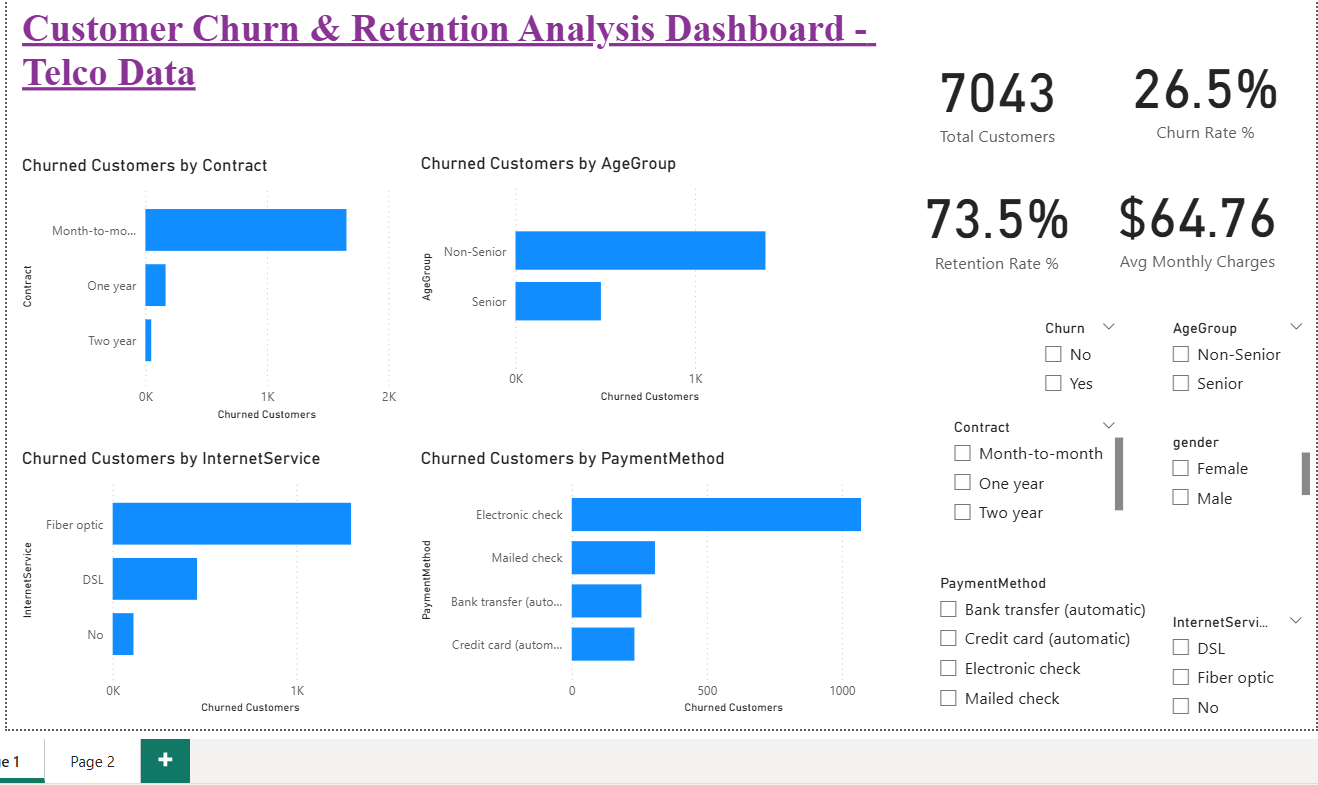

The page's visual inventory and layout, read from the dashboard file:
{"tool":"powerbi","page":{"name":"Page 1","canvas":[1280,720],"ordinal":0},"visuals":[{"type":"card","fields":{"Values":["Telco.Total Customers"]},"box":[896.3,45.2,145.5,112.5],"z":0},{"type":"card","fields":{"Values":["Telco.Churn Rate %"]},"box":[1083.4,45.2,178.5,103.9],"z":1000},{"type":"card","fields":{"Values":["Telco.Retention Rate %"]},"box":[887.8,159,161.4,132.1],"z":2000},{"type":"card","fields":{"Values":["Telco.Avg Monthly Charges"]},"box":[1049.2,157.7,231.1,132.1],"z":3000},{"type":"clusteredBarChart","fields":{"Y":["Telco.Churned Customers"],"Category":["Telco.Contract"]},"box":[9.8,157.7,381.5,265.4],"z":4000},{"type":"barChart","fields":{"Category":["Telco.PaymentMethod"],"Y":["Telco.Churned Customers"]},"box":[399.9,445.1,487.9,265.4],"z":5000},{"type":"barChart","fields":{"Category":["Telco.AgeGroup"],"Y":["Telco.Churned Customers"]},"box":[399.9,156.5,379.1,249.5],"z":6000},{"type":"barChart","fields":{"Category":["Telco.InternetService"],"Y":["Telco.Churned Customers"]},"box":[9.8,445.1,381.5,265.4],"z":7000},{"type":"slicer","fields":{"Values":["Telco.Churn"]},"box":[1002.7,314.3,94.2,91.7],"z":8000},{"type":"slicer","fields":{"Values":["Telco.Contract"]},"box":[913.5,410.9,183.4,112.5],"z":9000},{"type":"slicer","fields":{"Values":["Telco.PaymentMethod"]},"box":[900,563.7,227.4,146.7],"z":10000},{"type":"slicer","fields":{"Values":["Telco.AgeGroup"]},"box":[1127.5,314.3,152.9,94.2],"z":11000},{"type":"slicer","fields":{"Values":["Telco.InternetService"]},"box":[1128,601,152.3,119.4],"z":12000},{"type":"slicer","fields":{"Values":["Telco.gender"]},"box":[1128,425.4,152.3,82.3],"z":13000},{"type":"textbox","box":[9.8,7.3,890.2,102.7],"z":14000}]}

Visuals, with their boxes on the page's 1280x720 design canvas (x1, y1, x2, y2). These are canvas units, not pixel positions in the 1318x785 screenshot, which may show the page scaled, cropped or inside an application window:
card - Telco.Total Customers: [left=896, top=45, right=1042, bottom=158]
card - Telco.Churn Rate %: [left=1083, top=45, right=1262, bottom=149]
card - Telco.Retention Rate %: [left=888, top=159, right=1049, bottom=291]
card - Telco.Avg Monthly Charges: [left=1049, top=158, right=1280, bottom=290]
clusteredBarChart - Telco.Churned Customers x Telco.Contract: [left=10, top=158, right=391, bottom=423]
barChart - Telco.PaymentMethod x Telco.Churned Customers: [left=400, top=445, right=888, bottom=710]
barChart - Telco.AgeGroup x Telco.Churned Customers: [left=400, top=156, right=779, bottom=406]
barChart - Telco.InternetService x Telco.Churned Customers: [left=10, top=445, right=391, bottom=710]
slicer - Telco.Churn: [left=1003, top=314, right=1097, bottom=406]
slicer - Telco.Contract: [left=914, top=411, right=1097, bottom=523]
slicer - Telco.PaymentMethod: [left=900, top=564, right=1127, bottom=710]
slicer - Telco.AgeGroup: [left=1128, top=314, right=1280, bottom=408]
slicer - Telco.InternetService: [left=1128, top=601, right=1280, bottom=720]
slicer - Telco.gender: [left=1128, top=425, right=1280, bottom=508]
textbox: [left=10, top=7, right=900, bottom=110]
